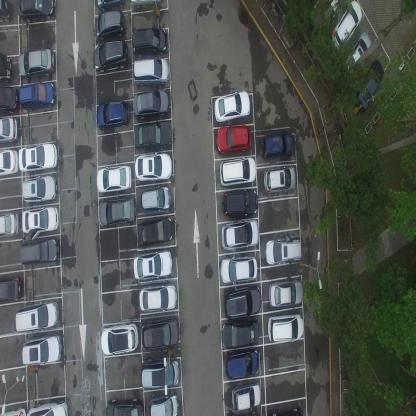car: (331, 0, 363, 52), (355, 57, 384, 112), (15, 299, 59, 332), (22, 333, 62, 368), (133, 247, 173, 281), (223, 284, 260, 320), (99, 322, 138, 355), (133, 86, 169, 121), (222, 221, 260, 254), (22, 206, 60, 239), (18, 141, 58, 172), (346, 28, 371, 77), (225, 346, 261, 380), (93, 37, 127, 73), (214, 88, 250, 122), (19, 78, 55, 112), (142, 315, 180, 347), (99, 196, 137, 228), (141, 356, 180, 387), (96, 164, 132, 197), (218, 158, 256, 189), (17, 47, 55, 78), (139, 282, 178, 312), (20, 237, 60, 266), (96, 96, 130, 130), (220, 321, 261, 349), (134, 118, 171, 149), (133, 56, 170, 87), (220, 254, 258, 284), (131, 25, 167, 56), (266, 314, 303, 344), (135, 152, 172, 182), (222, 190, 258, 220), (215, 124, 252, 153), (137, 216, 173, 245), (259, 134, 293, 164), (22, 173, 56, 203), (95, 9, 125, 42), (262, 167, 296, 196), (267, 284, 302, 311), (140, 184, 170, 214), (232, 380, 262, 410), (105, 394, 144, 416), (16, 0, 56, 21), (148, 390, 180, 415), (26, 397, 68, 415), (0, 144, 19, 177), (0, 84, 19, 116), (0, 272, 20, 302), (0, 208, 19, 238), (0, 116, 19, 142), (0, 50, 12, 83)
